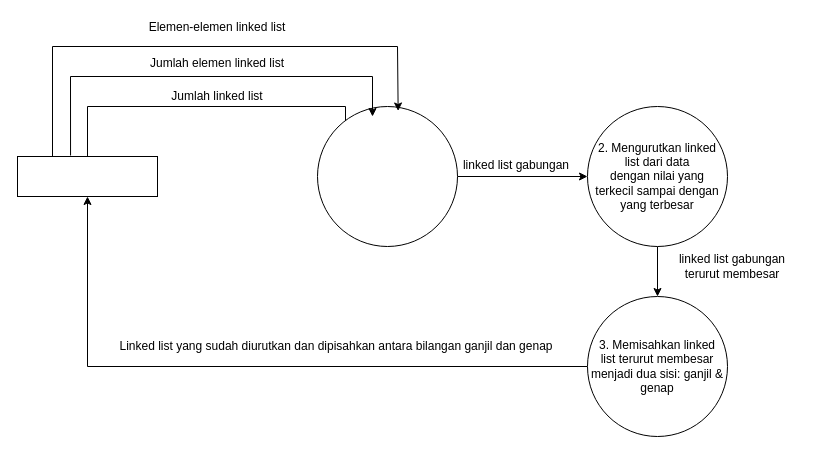
Some shapes in this 815 by 454 pixel diagram are drawn without their labels. Here are the shapes that lost their labels. From the top down, the centre of each, then its label:
(87,176): Pengguna
(387,176): 1. Menggabungkan semua linked list menjadi satu linked list utama
